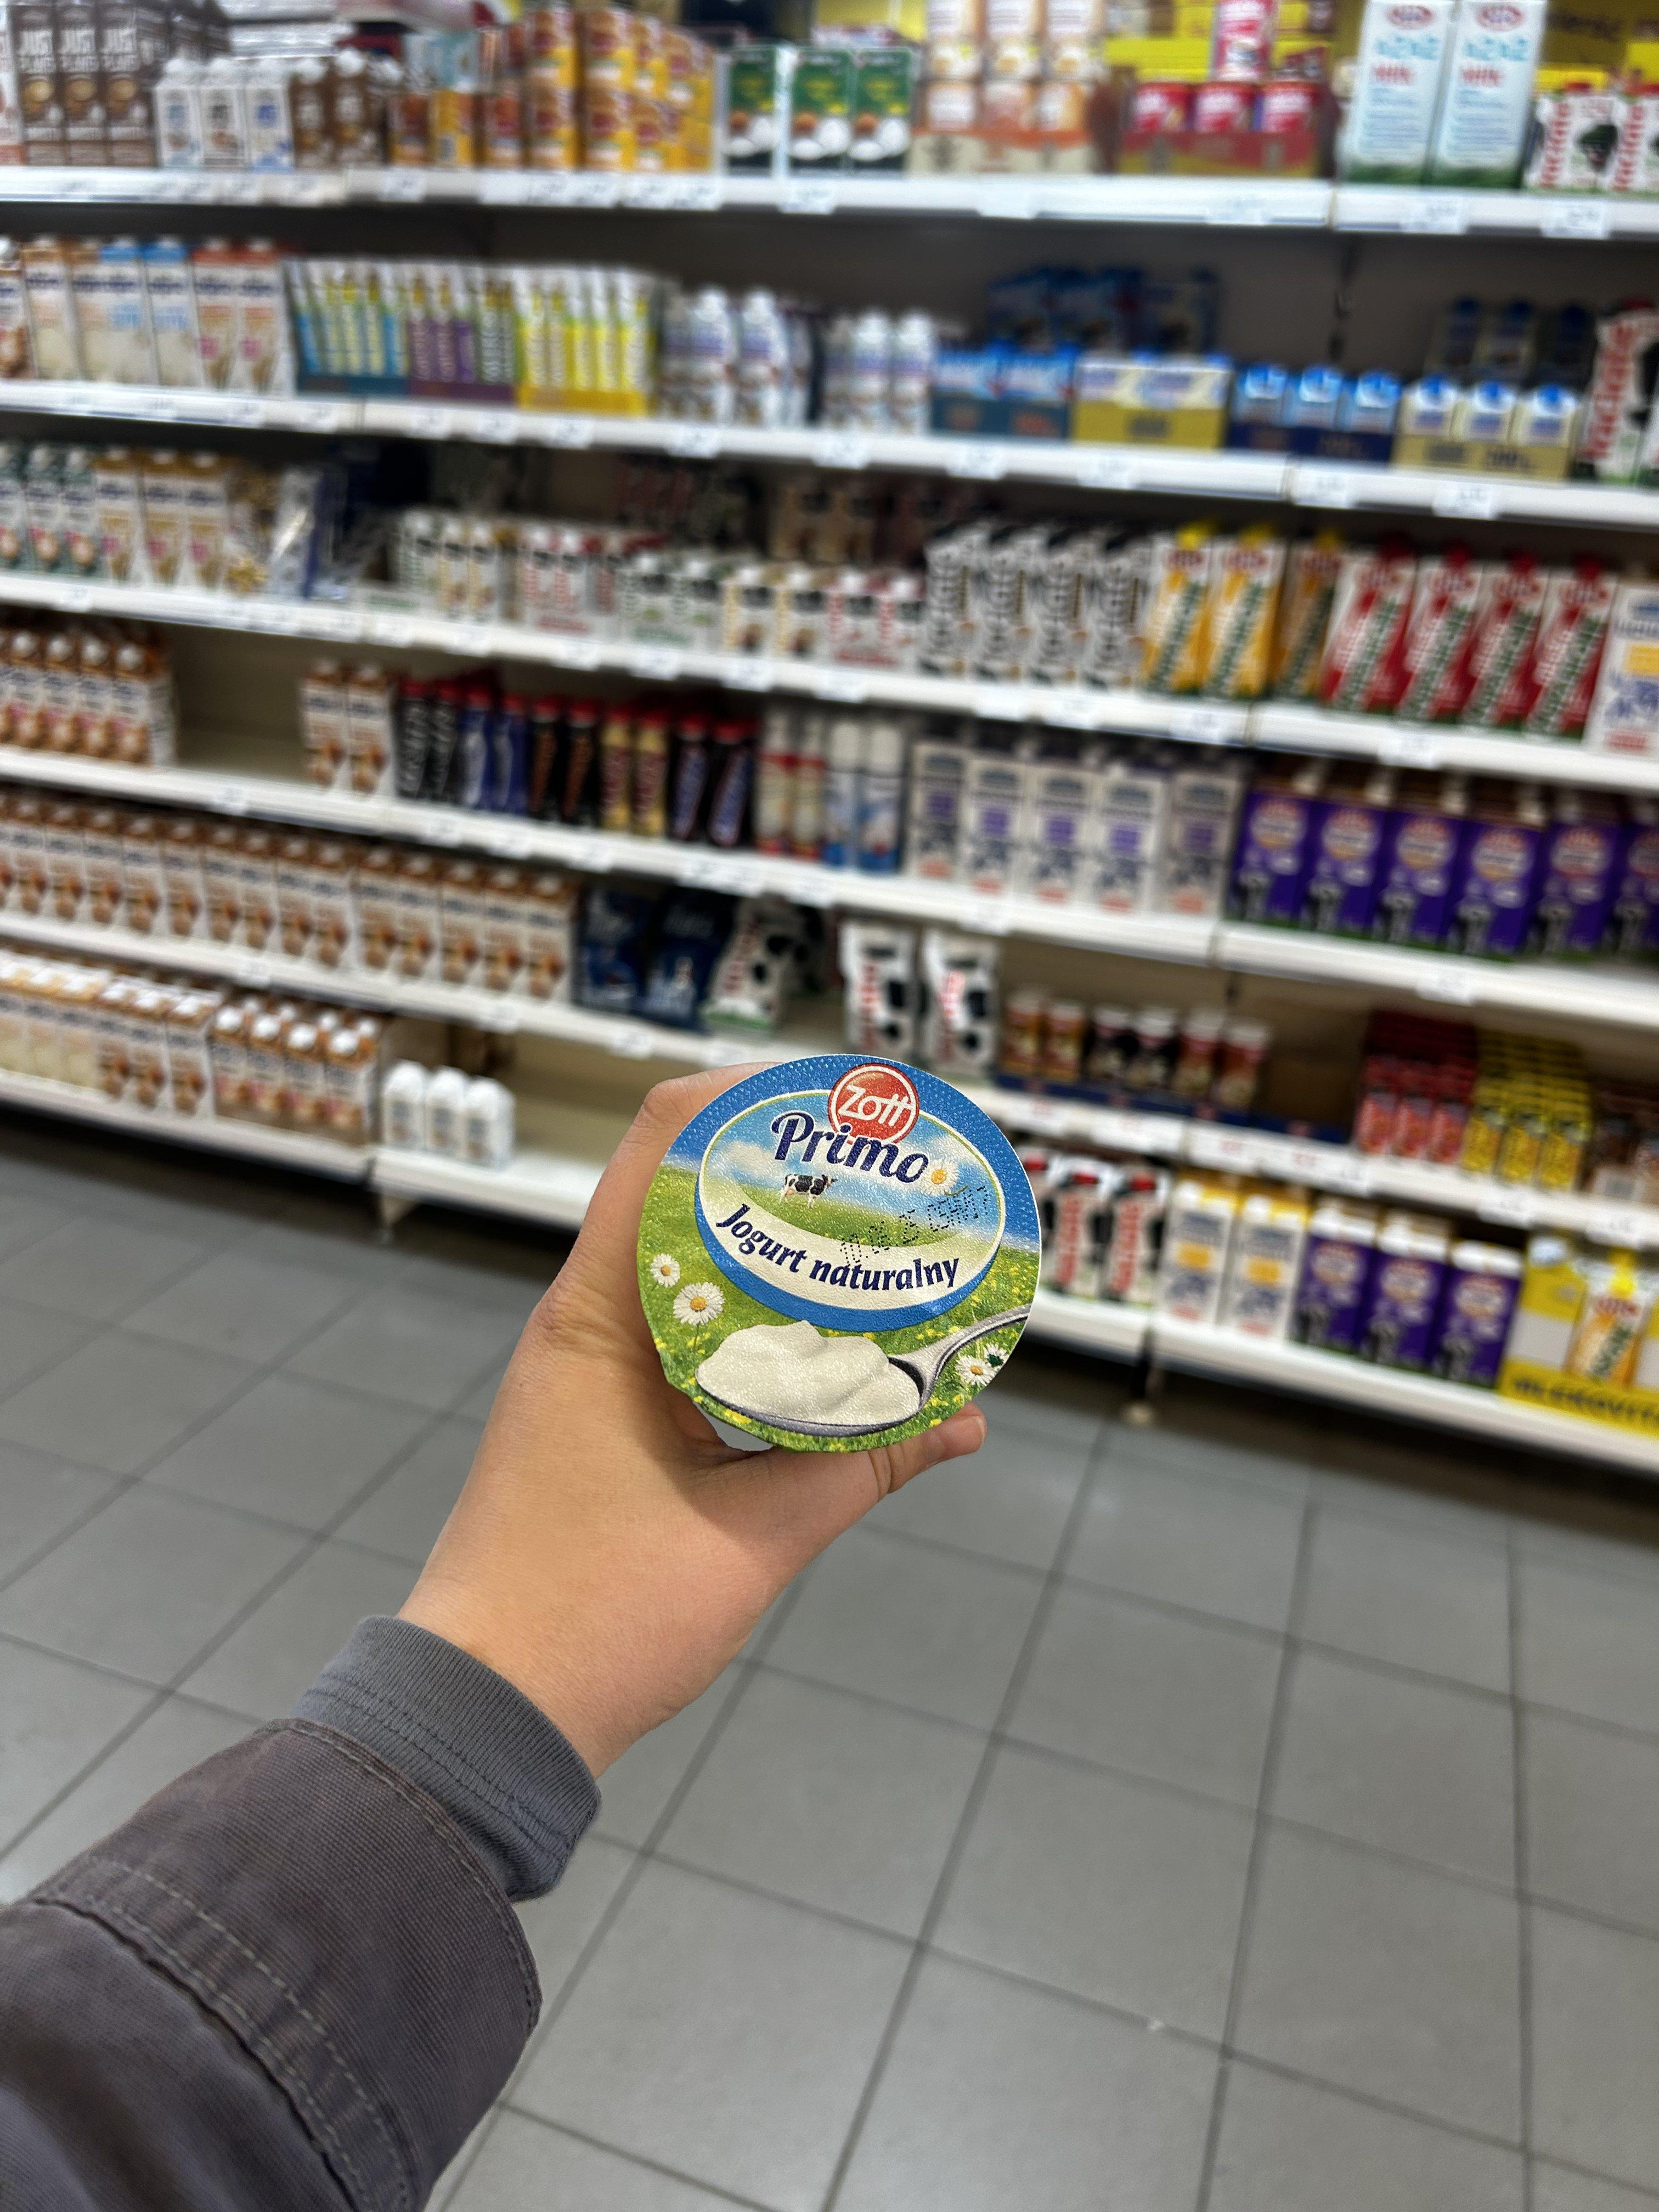Yogurt: (615, 1061, 1049, 1460)
